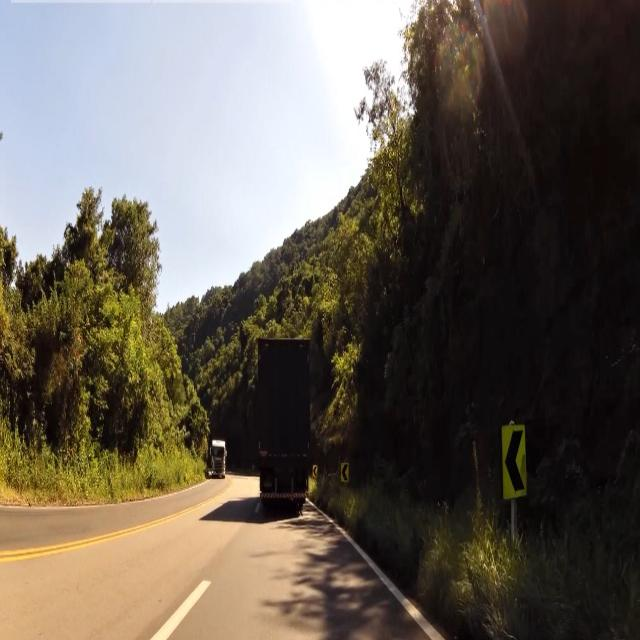Del: (501, 426, 527, 498), (340, 462, 350, 482)
